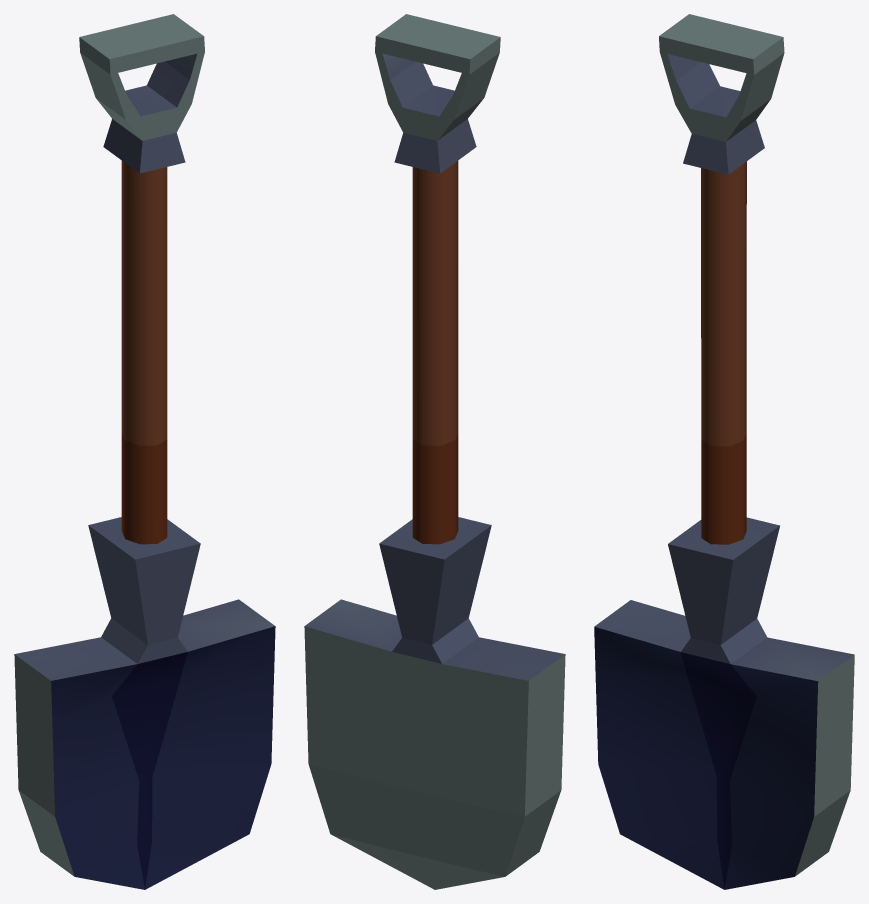
The model's file is Shovel.fbx.
3 renders of one model, left to right at view 1: azimuth 30°, elevation 25°; view 2: azimuth 150°, elevation 25°; view 3: azimuth 330°, elevation 25°, orthographic.
Parts seen in each view (by area): view 1: PaCenario; view 2: PaCenario; view 3: PaCenario.
Part boxes in pixels (box(x1,y1,x2,y2)): PaCenario: box(14, 14, 275, 889); PaCenario: box(304, 14, 565, 889); PaCenario: box(594, 14, 854, 889).
Size of the model in its own units: 22 by 80 by 8.
